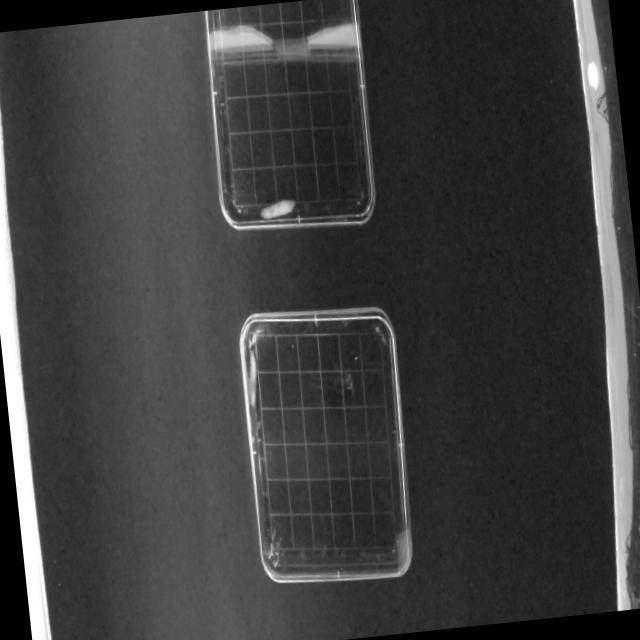larva: (244, 350, 262, 412), (258, 197, 297, 220)
